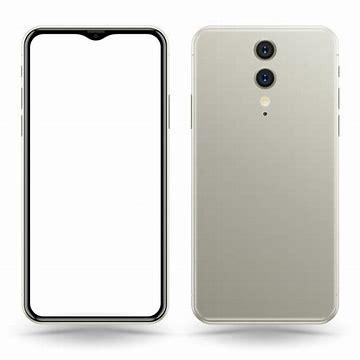Smart Phone: (18, 26, 165, 324)
